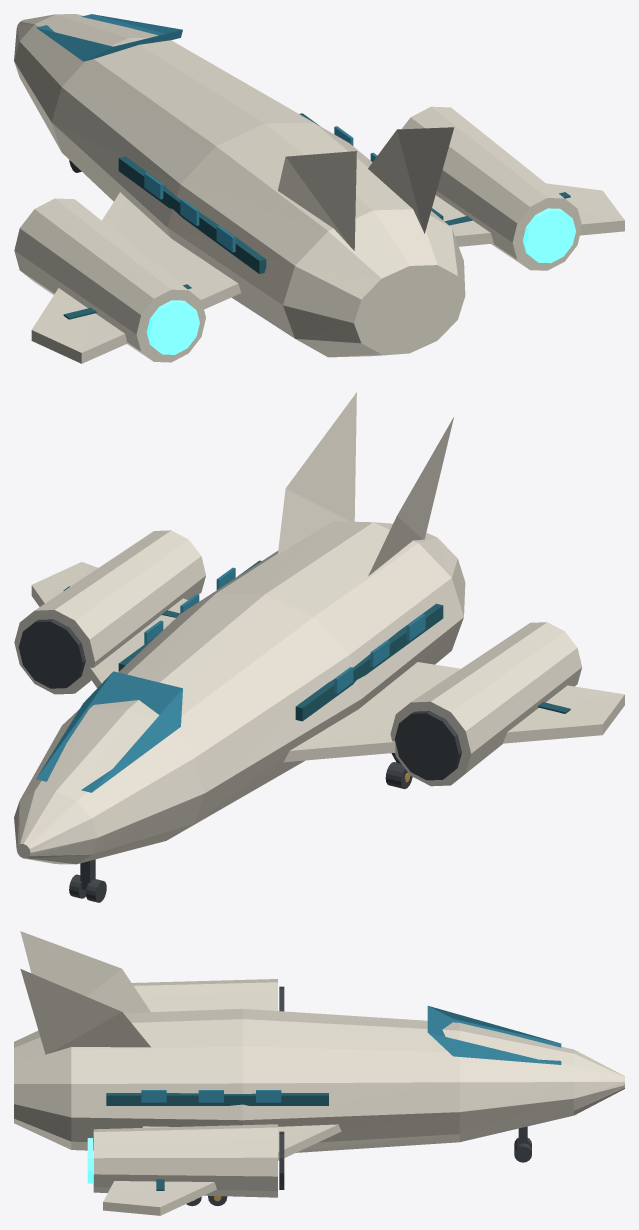
The model's file is Transport.glb.
3 views of the same model, one above another, from view 1: azimuth 30°, elevation 25°; view 2: azimuth 150°, elevation 25°; view 3: azimuth 270°, elevation 25° (orthographic). The views are drawn at different scales.
Visible parts, largest first — view 1: Ivory, Light, Glass Dark, Teal; view 2: Ivory, Metal, Glass Dark, Teal; view 3: Ivory, Glass Dark, Teal, Metal.
Part boxes in pixels (bbox=[...]): Ivory: bbox=[14, 14, 624, 363]; Light: bbox=[146, 208, 575, 354]; Glass Dark: bbox=[36, 14, 377, 252]; Teal: bbox=[63, 113, 570, 319]; Ivory: bbox=[14, 392, 624, 864]; Metal: bbox=[18, 619, 461, 902]; Glass Dark: bbox=[36, 567, 425, 792]; Teal: bbox=[63, 560, 570, 721]; Ivory: bbox=[14, 931, 624, 1215]; Glass Dark: bbox=[141, 1006, 561, 1102]; Teal: bbox=[106, 1093, 328, 1190]; Metal: bbox=[186, 986, 531, 1206].
Size of the model in its own units: 82 by 36 by 96.
